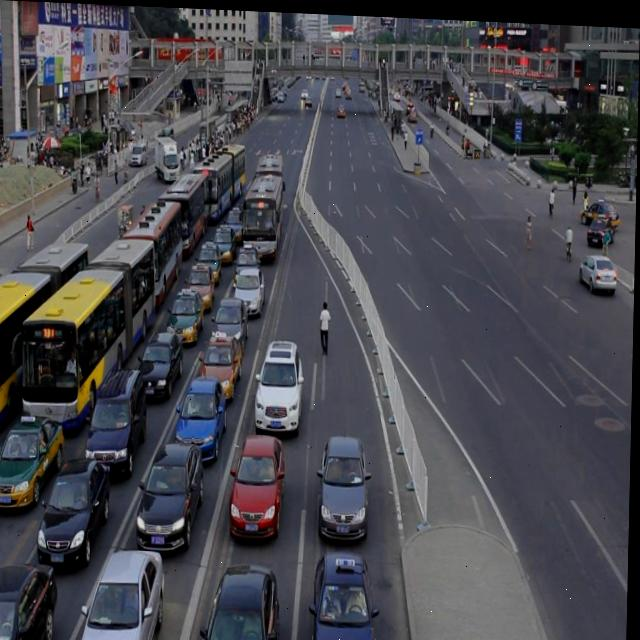bus: (154, 136, 181, 181)
car: (39, 461, 112, 568), (139, 446, 207, 554), (85, 551, 166, 640), (88, 371, 148, 477), (312, 551, 382, 640), (0, 416, 65, 511), (231, 436, 287, 538), (204, 566, 281, 640), (318, 437, 372, 539), (256, 343, 306, 434), (0, 566, 59, 640), (179, 380, 228, 462), (142, 334, 185, 402), (202, 335, 243, 402), (213, 299, 250, 358), (169, 290, 206, 345), (578, 248, 617, 285), (235, 272, 265, 315), (580, 190, 619, 223), (187, 267, 216, 310), (196, 241, 222, 282), (235, 245, 262, 284), (210, 225, 237, 264), (586, 208, 614, 240), (224, 207, 245, 244)
van: (10, 238, 157, 435), (0, 239, 90, 435), (117, 200, 185, 311), (192, 143, 247, 223), (158, 174, 210, 257), (243, 176, 283, 259), (254, 155, 285, 220)
